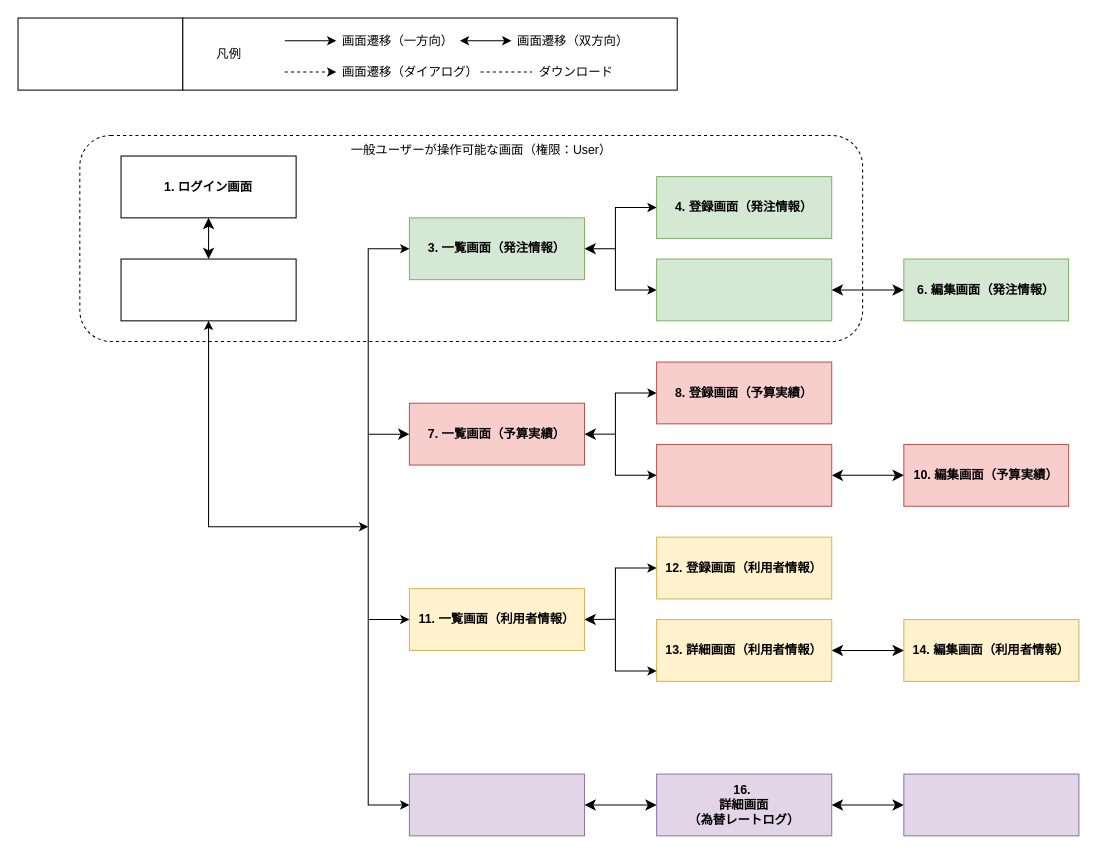
The diagram is 1097 pixels wide and 854 high, and some of its shapes have lost their labels. Each missing label, with the centre of its shape:
15. 一覧画面 （ 為替レートログ ）: the point at 496,804
17. 編集 画面 （ 為替レートログ ）: the point at 991,804
2. トップページ: the point at 208,289
5. 詳細画面（発注情報）: the point at 744,289
9. 詳細画面（ 予算実績 ）: the point at 744,474
画面遷移図: the point at 100,53
